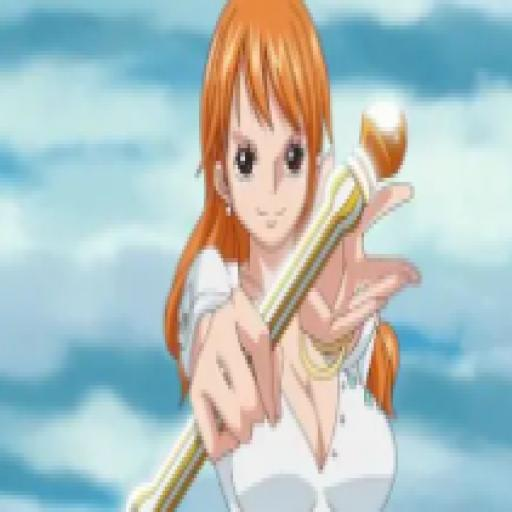Nami: (109, 2, 433, 510)
